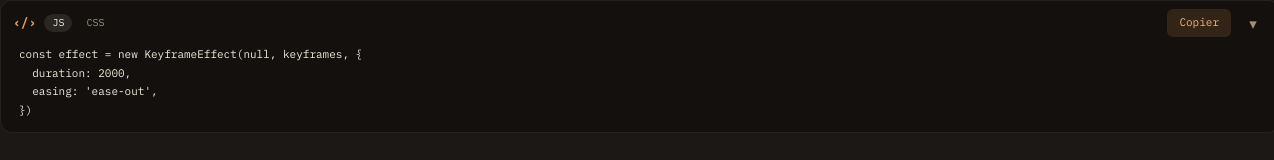
Test: tabs › shows one tab per template when the lesson has several
Click the tab "CSS". click: x=95, y=23
box: [78,14,112,32]
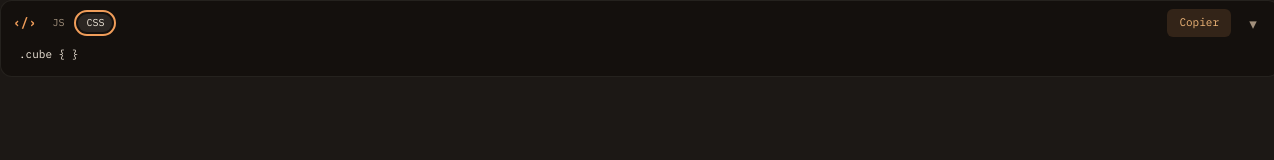
Check: the element with test id "code-lines" reads ".cube { }", box [19,47,78,61]
